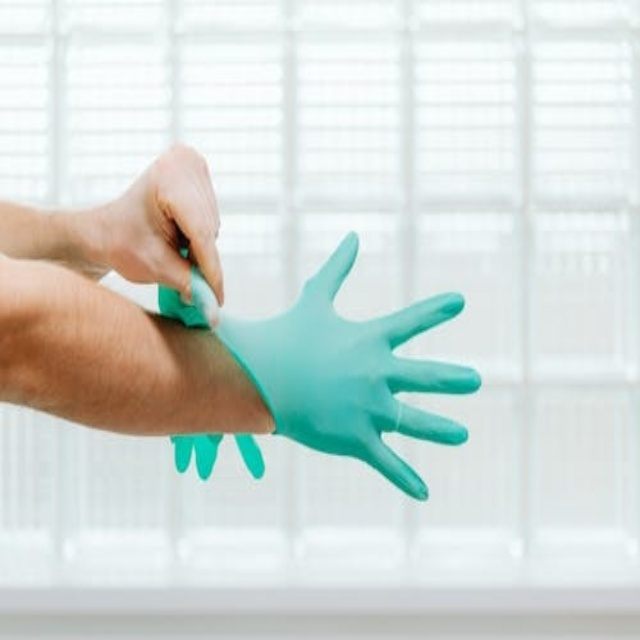Guantes: (244, 206, 483, 519)
Sin_guantes: (102, 131, 236, 319)
